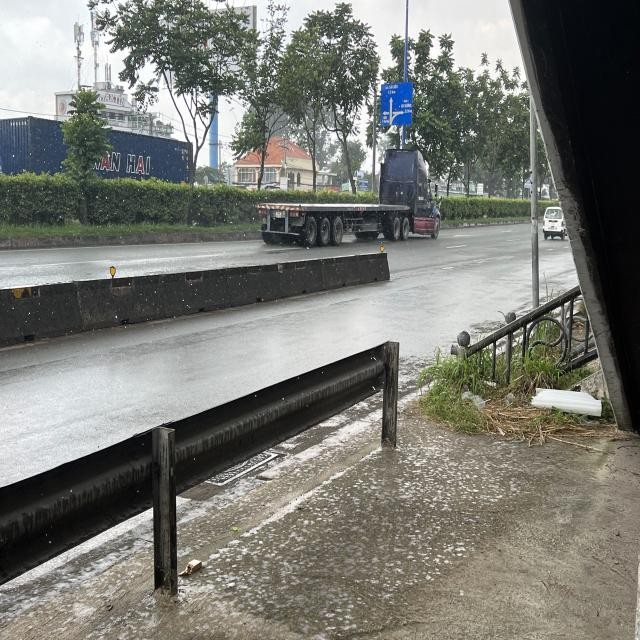container: (257, 153, 441, 246)
van: (542, 209, 567, 241)
